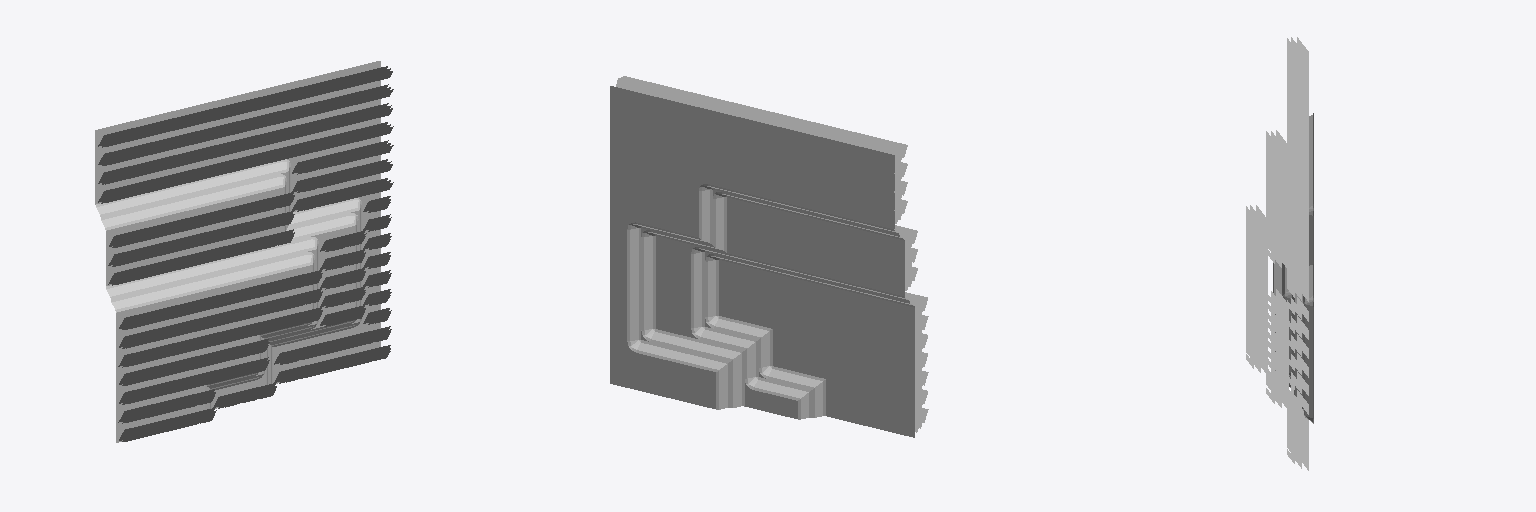
The model's file is Plat_full_09_00.obj.
The picture shows the model from 3 angles: view 1: azimuth 30°, elevation 25°; view 2: azimuth 150°, elevation 25°; view 3: azimuth 270°, elevation 25°; orthographic projection.
Visible parts, largest first — view 1: map; view 2: map; view 3: map.
Part boxes in pixels (bbox=[...]): map: bbox=[95, 61, 393, 442]; map: bbox=[610, 76, 928, 437]; map: bbox=[1246, 37, 1313, 470].
Bounding box in the file's own units: 32.25 × 32.12 × 6.64.